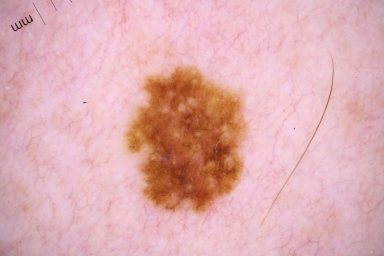melanoma: (125, 69, 248, 212)
